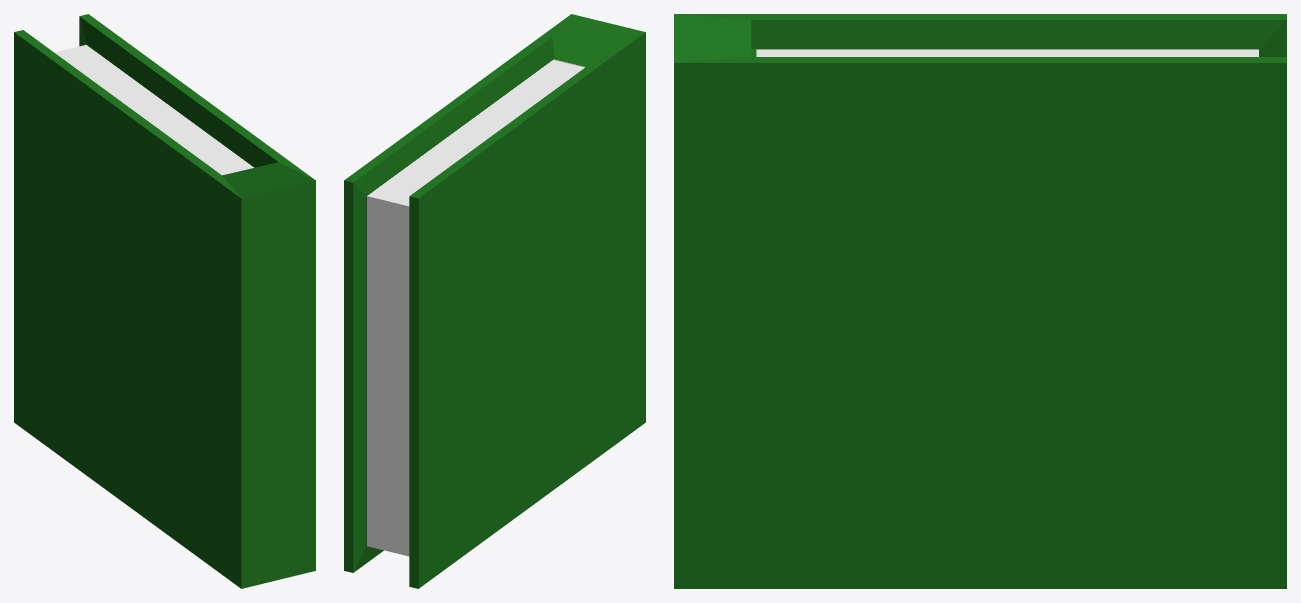
The model's file is Livro3.fbx.
The picture shows the model from 3 angles, left to right: view 1: azimuth 30°, elevation 25°; view 2: azimuth 150°, elevation 25°; view 3: azimuth 270°, elevation 25°; orthographic projection. The views are drawn at different scales.
Visible parts, largest first — view 1: Livro; view 2: Livro; view 3: Livro.
Boxes of the visible parts, x1=… form: Livro: x1=14, y1=14, x2=315, y2=588; Livro: x1=344, y1=14, x2=645, y2=588; Livro: x1=674, y1=14, x2=1286, y2=588.
Size of the model in its own units: 22.99 by 115 by 122.
